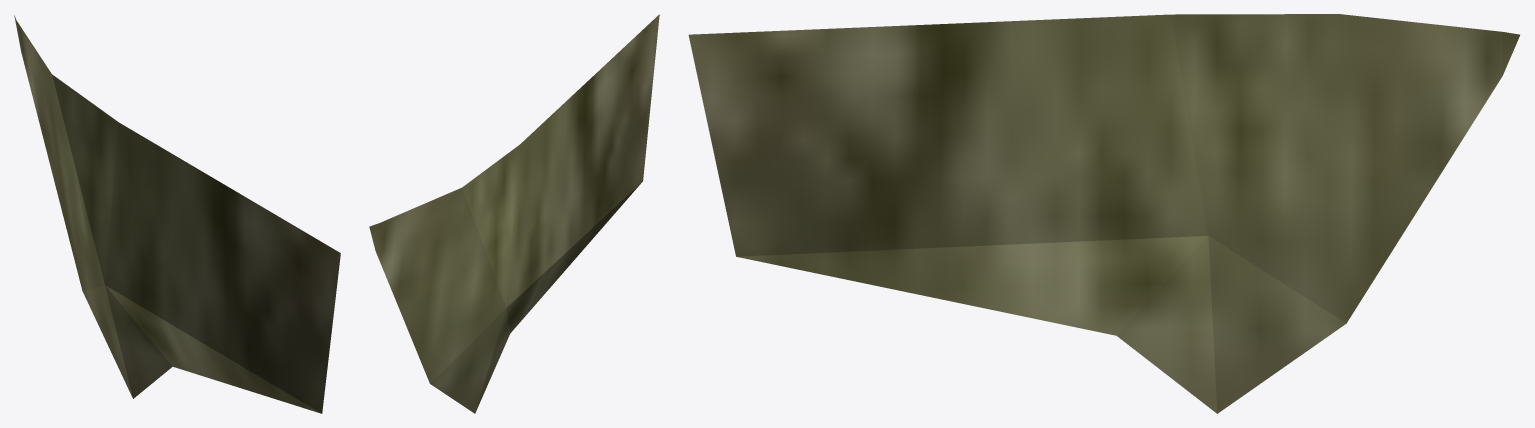
3 renders of one model, left to right at view 1: azimuth 30°, elevation 25°; view 2: azimuth 150°, elevation 25°; view 3: azimuth 270°, elevation 25°, orthographic. The views are drawn at different scales.
Size of the model in its own units: 0.048 by 0.4104 by 0.8159.
Materials: 1 (1 with a texture image).
